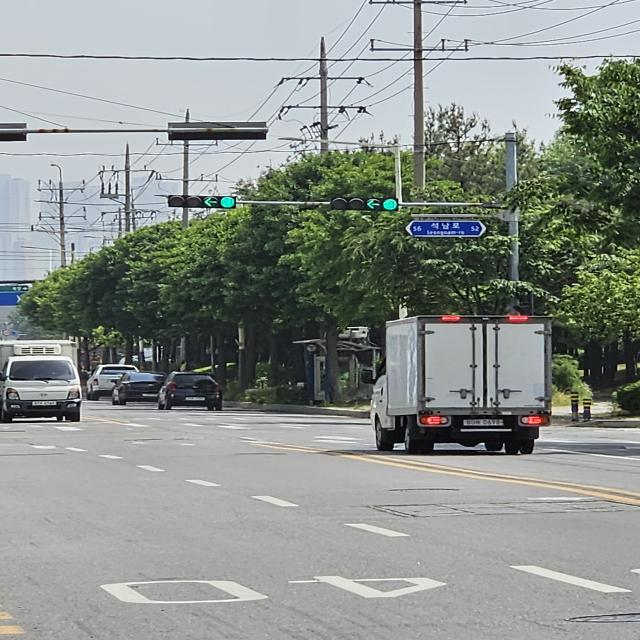Green Light: (220, 196, 236, 209), (382, 198, 398, 210)
